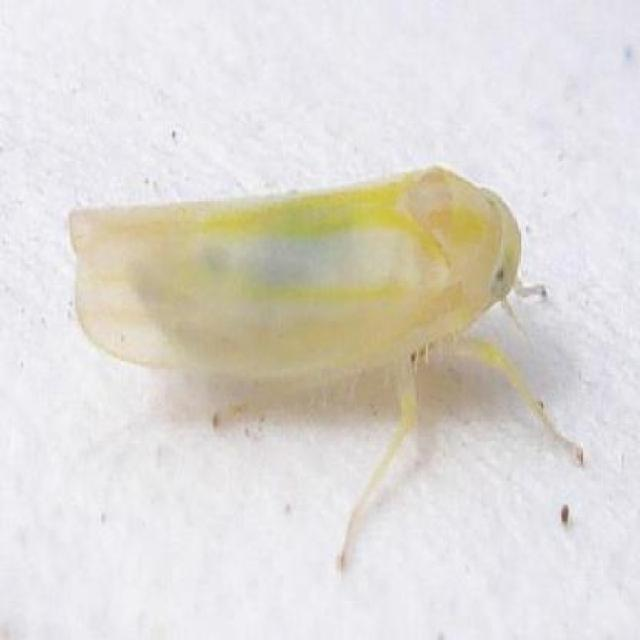green-leafhopper: (64, 163, 553, 451)
